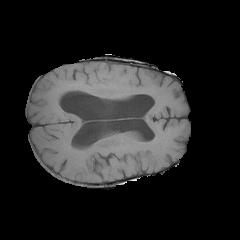glioma: (53, 82, 158, 106)
